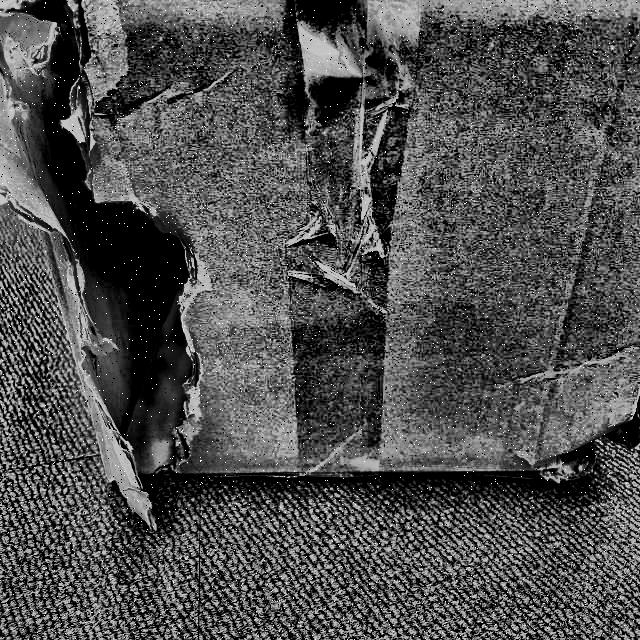box: (0, 0, 640, 536)
hole: (5, 1, 198, 487)
